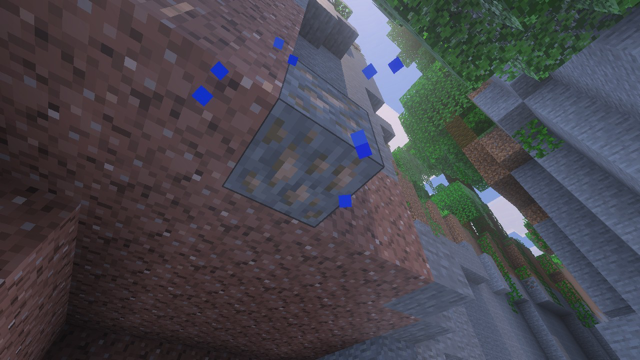iron: (229, 61, 386, 226)
